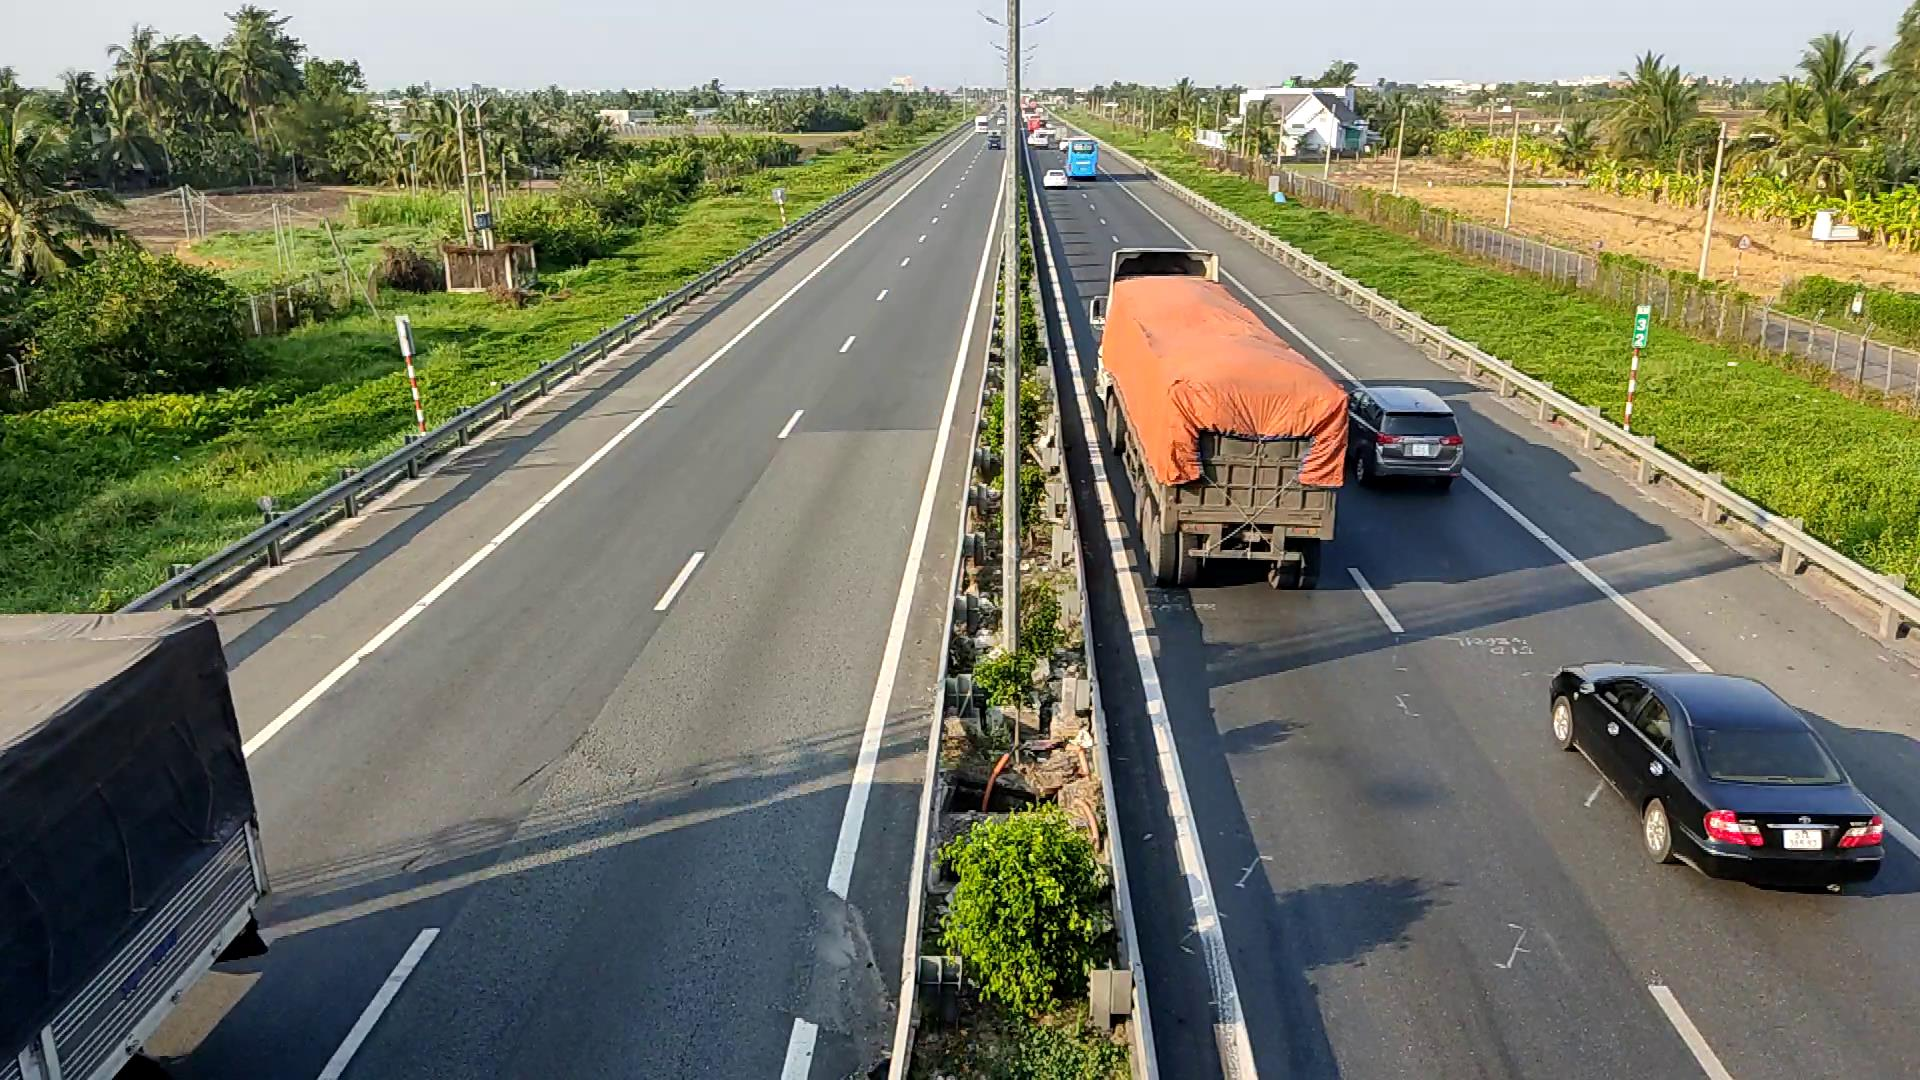car: (1547, 661, 1886, 889), (1342, 382, 1464, 491)
truck: (1092, 249, 1350, 589)
